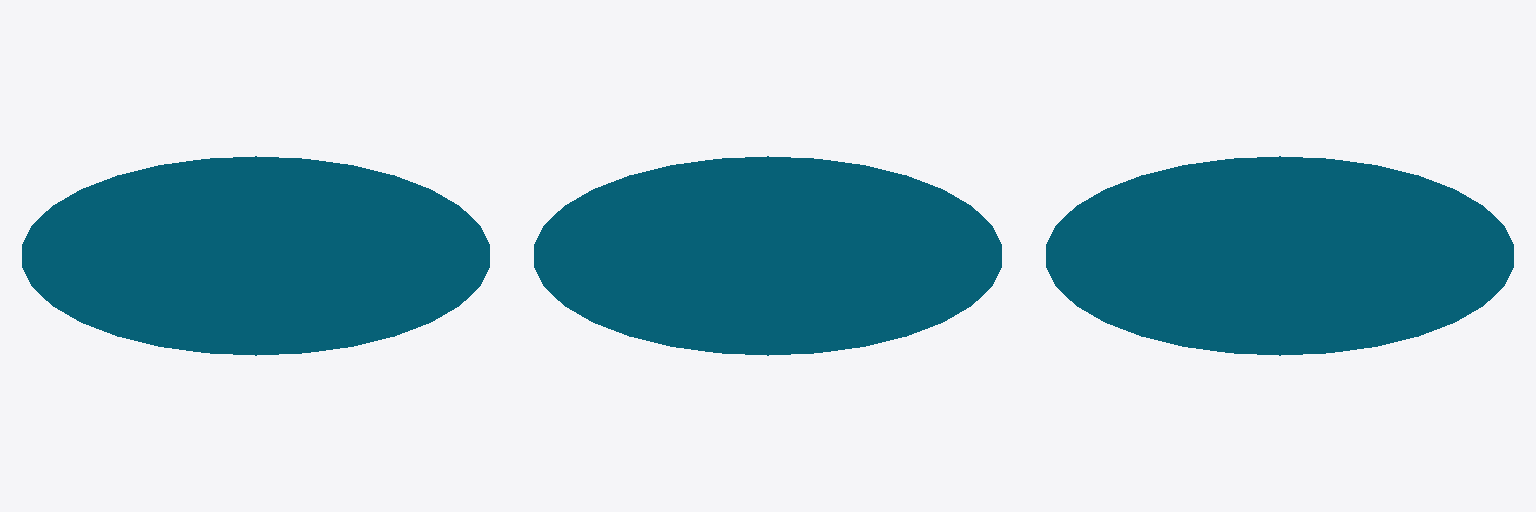
Rendered from sea.obj.
3 views of the same model, side by side, from view 1: azimuth 30°, elevation 25°; view 2: azimuth 150°, elevation 25°; view 3: azimuth 270°, elevation 25° (orthographic).
Visible parts, largest first — view 1: Cylinder001; view 2: Cylinder001; view 3: Cylinder001.
Boxes of the visible parts, x1,y1,x2,y2 form: Cylinder001: [22, 156, 489, 355]; Cylinder001: [534, 156, 1001, 355]; Cylinder001: [1046, 156, 1513, 355].
Bounding box in the file's own units: 108 × 0 × 108.